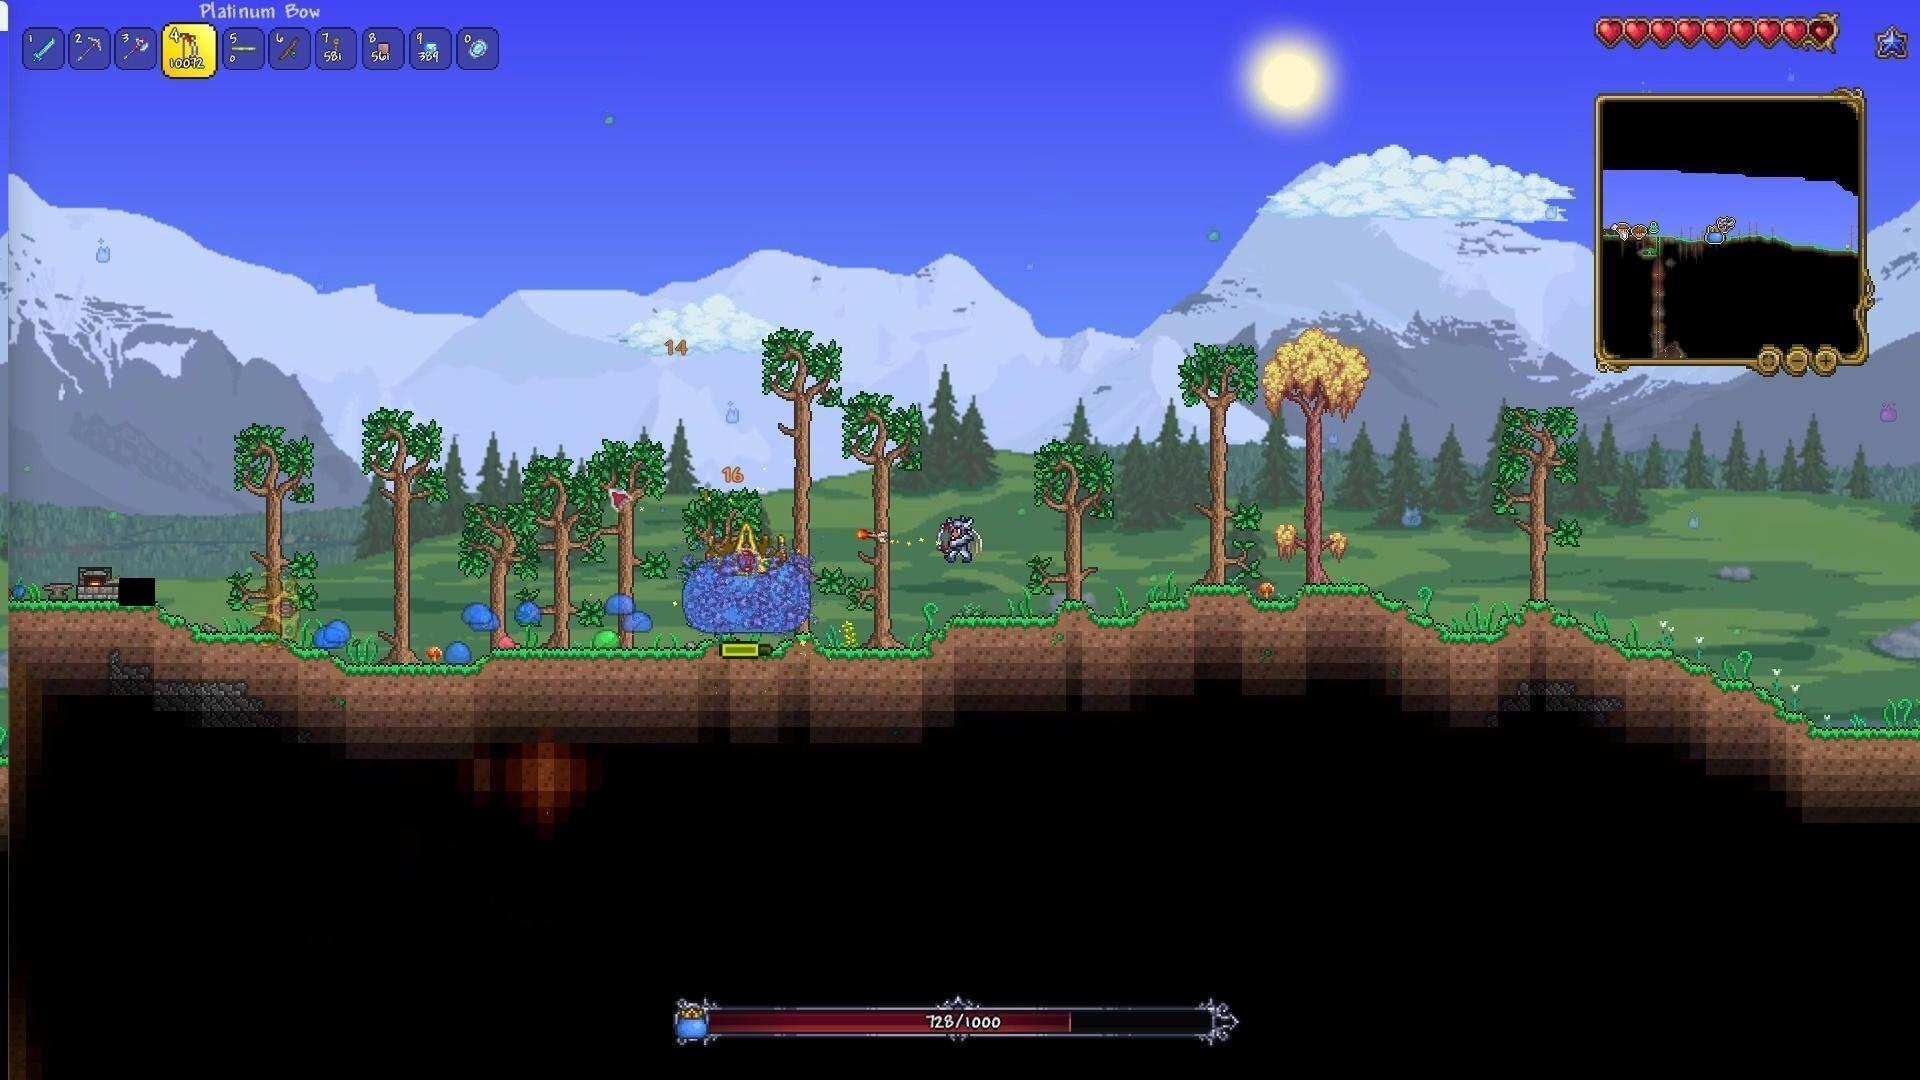slime: (320, 616, 356, 647), (440, 636, 472, 669), (599, 593, 638, 618), (620, 613, 659, 637), (514, 600, 546, 629), (458, 601, 496, 622), (593, 629, 621, 654)
